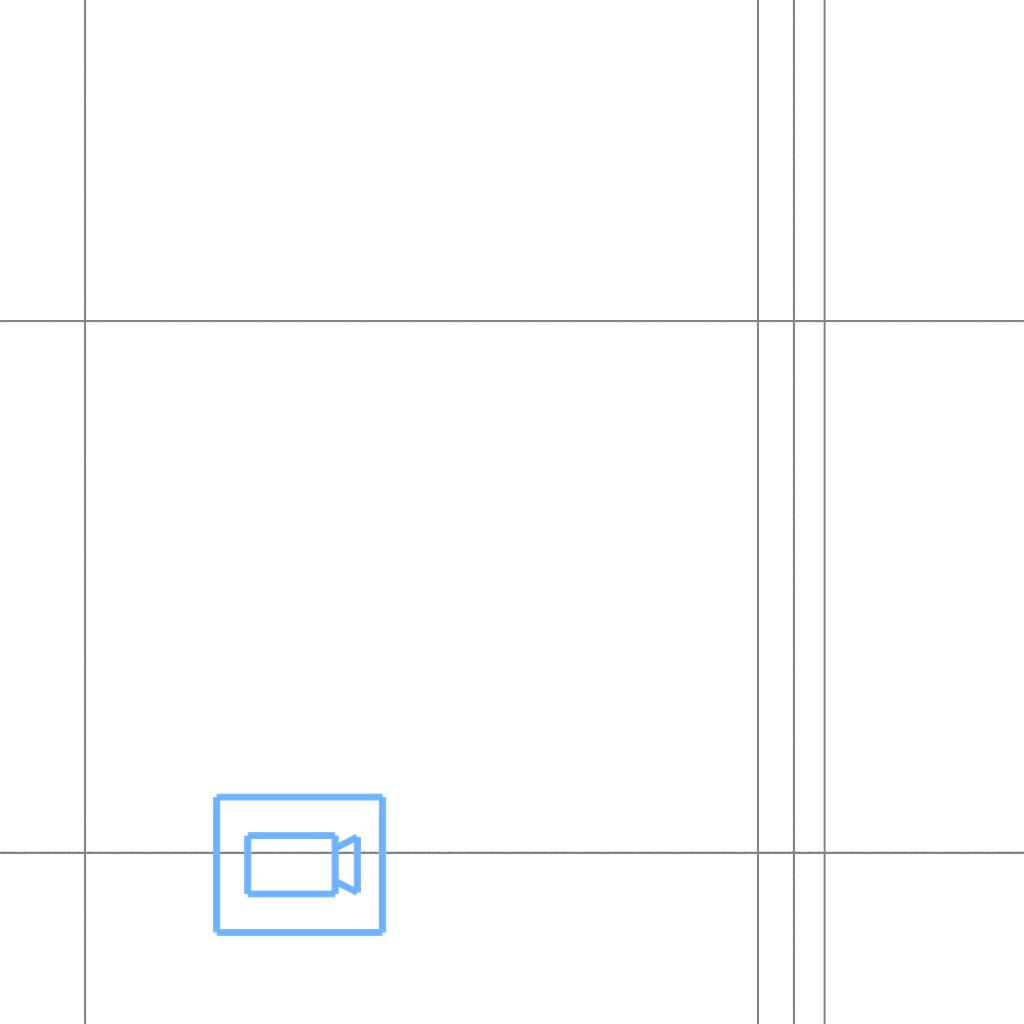KFO_Kamera_mit_Festobjektiv: (208, 789, 390, 943)
